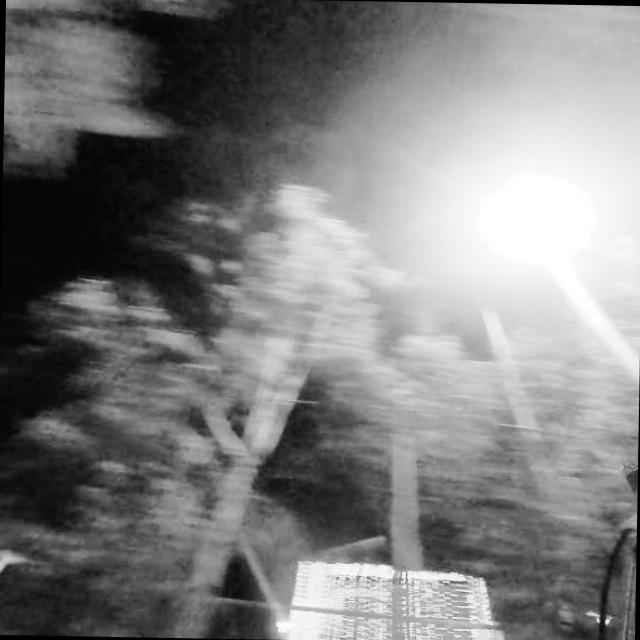Light: (461, 168, 608, 271)
